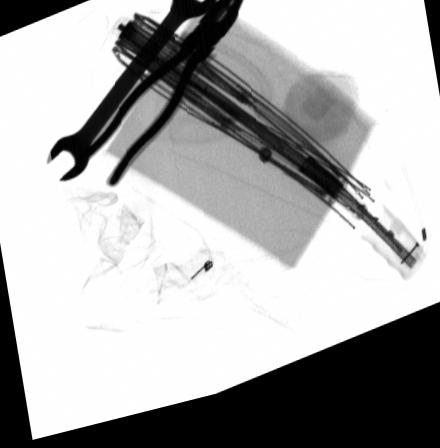Pliers: (70, 0, 250, 195)
Wrench: (42, 0, 220, 185)
